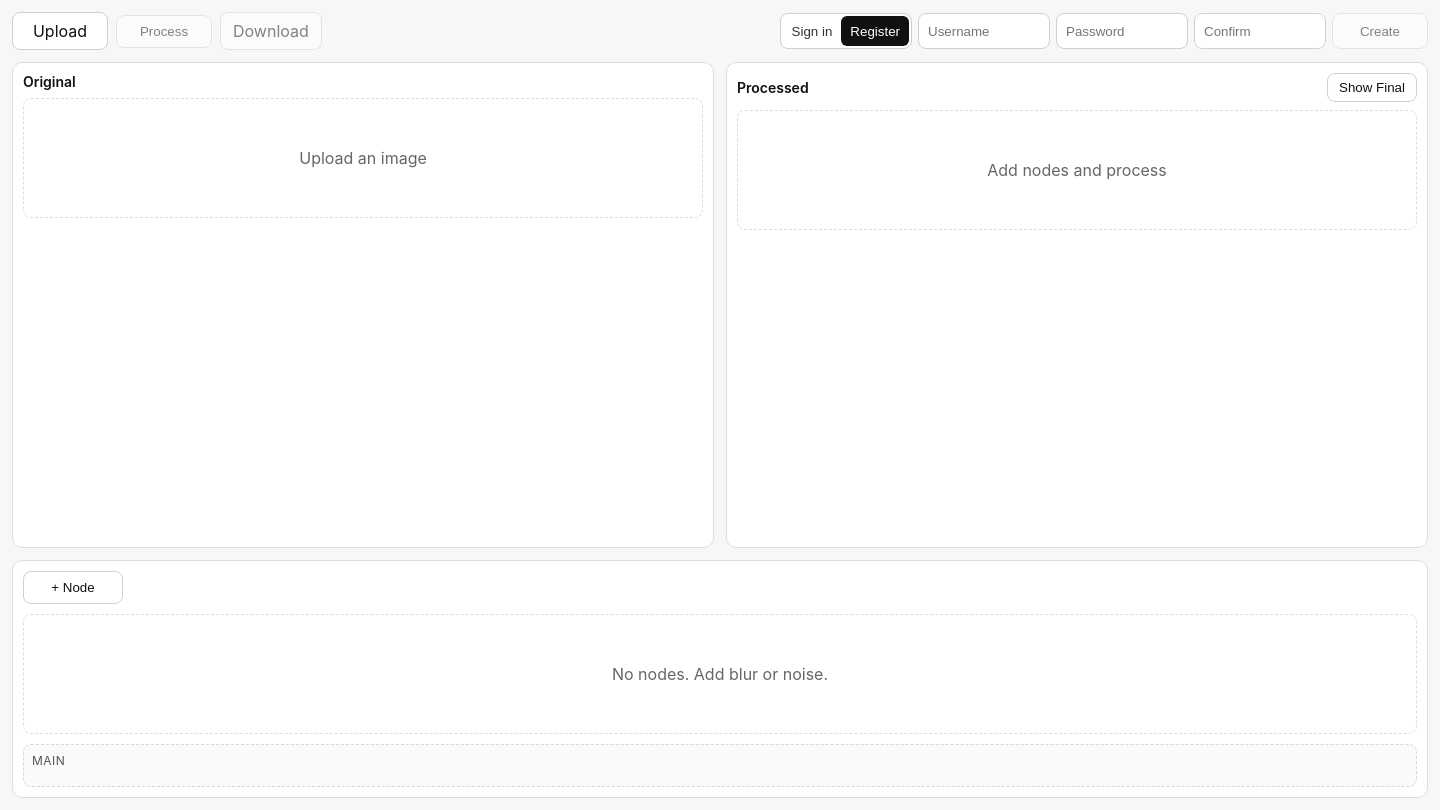
Test: App authentication and presets › shows validation only after the user enters an invalid value
Expected: the button "Create" is disabled, left=1332, top=13, right=1428, bottom=49
In the field labelled "Username": (984, 31) left=918, top=13, right=1050, bottom=49, type "ab"
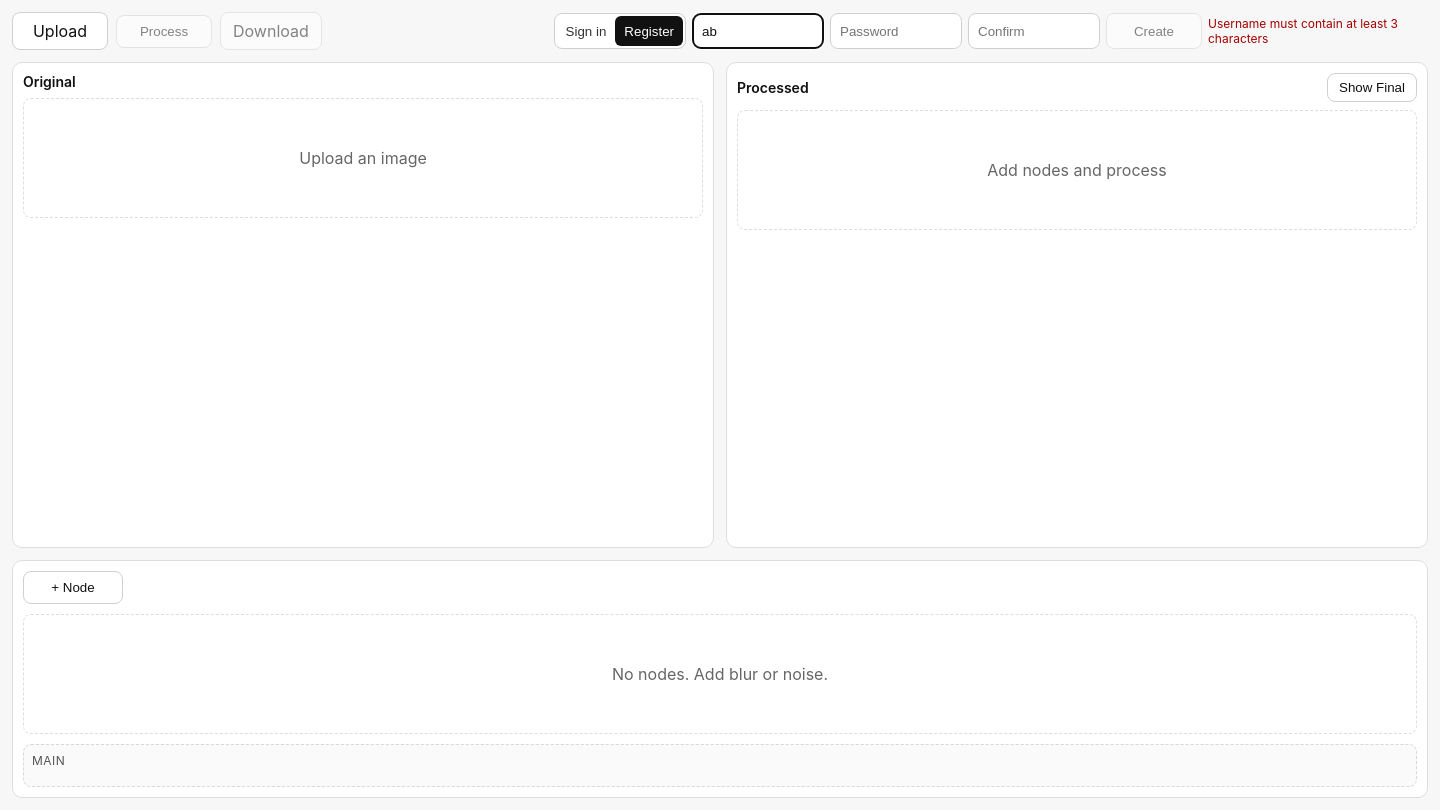
Expected: the button "Create" is disabled, left=1106, top=13, right=1202, bottom=49
Expected: the message reads "Username must contain at least 3 characters", left=1208, top=16, right=1398, bottom=46
